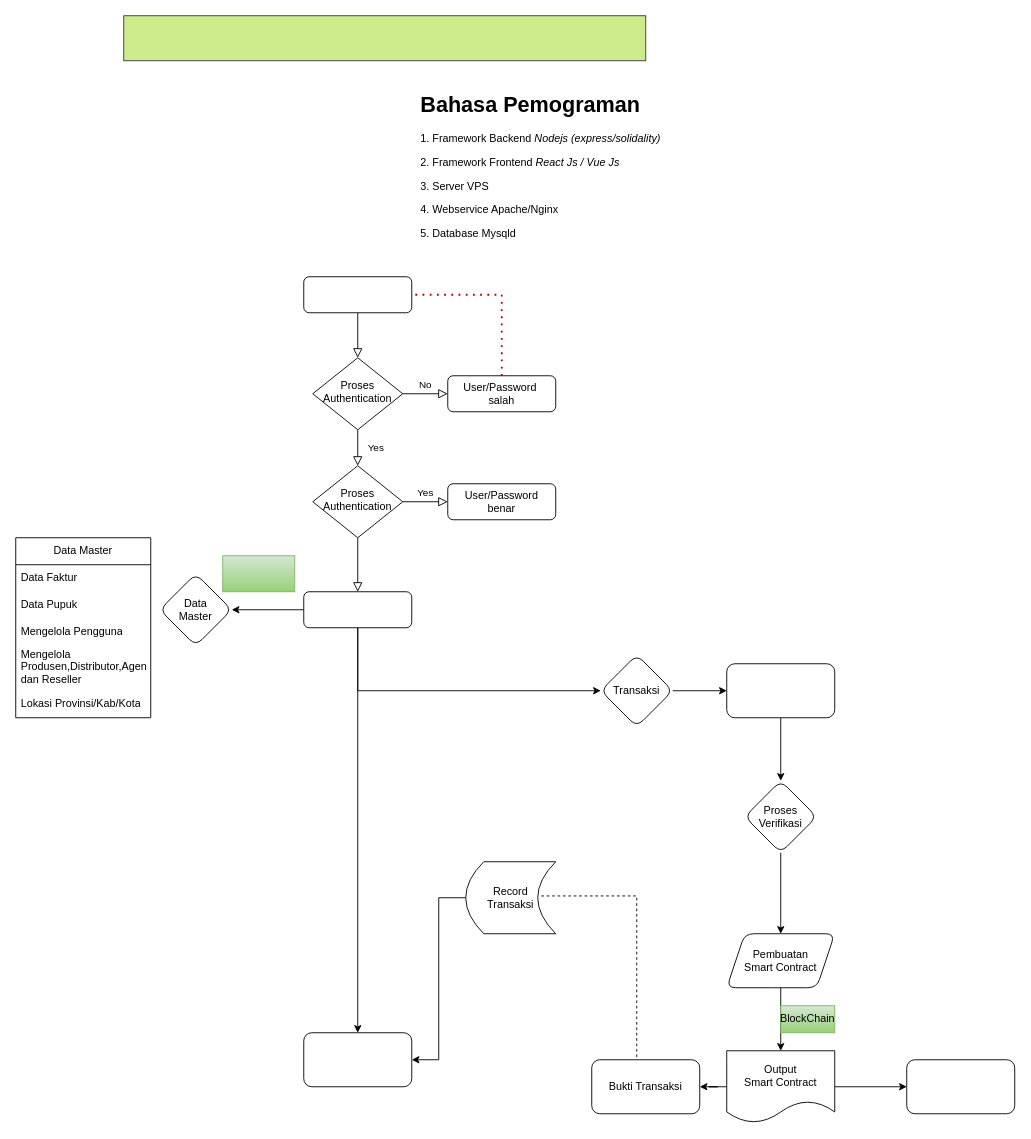
This 1031x1139 diagram has some shape labels left out. Here are the shapes that lost their labels. From the top down, the box of each, then its label:
(123, 15, 646, 61): SMART CONTRACT BLOCKHAIN NODE
(303, 276, 412, 313): Login
(222, 555, 295, 592): Hak akses: Admin
(303, 591, 412, 628): Beranda
(726, 663, 835, 718): Menajukan Transaksi
(303, 1032, 412, 1087): Pelaporan
(906, 1059, 1015, 1114): Smart Contract Pengguna
